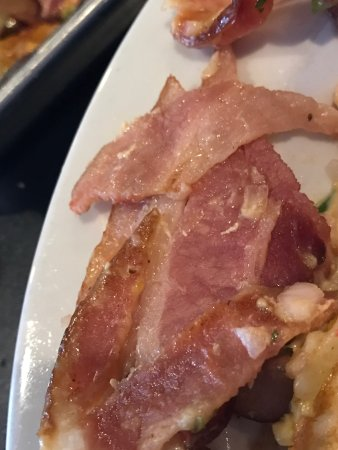bacon: (74, 176, 281, 426), (94, 77, 286, 210)
